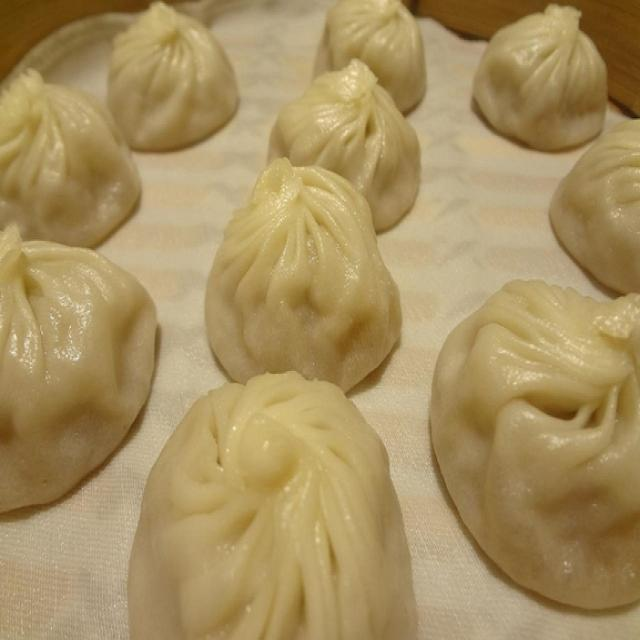带馅早点: (1, 13, 618, 626)
